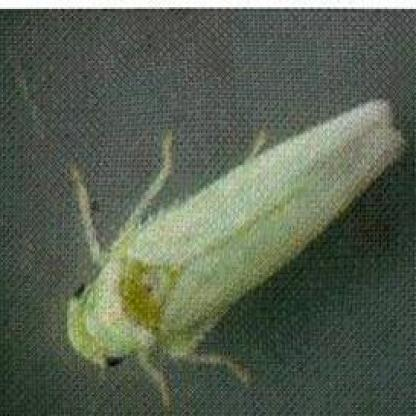green-leafhopper: (70, 98, 397, 374)
